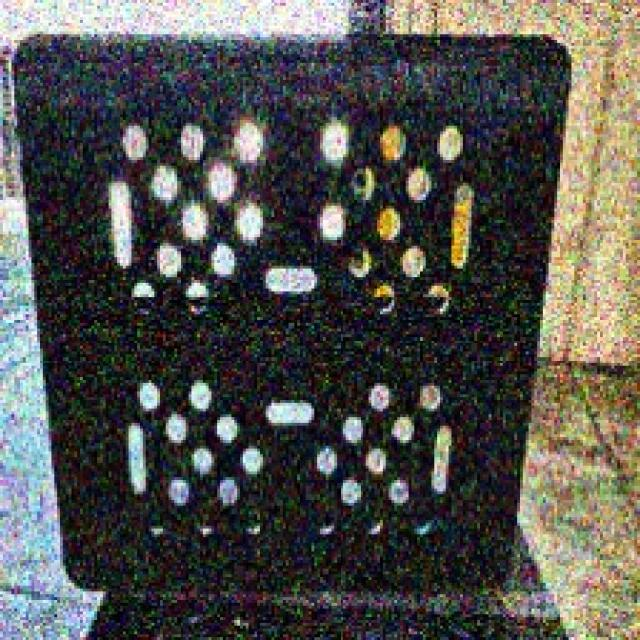igps: (6, 27, 582, 600)
